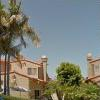Palm tree: (2, 2, 33, 97)
